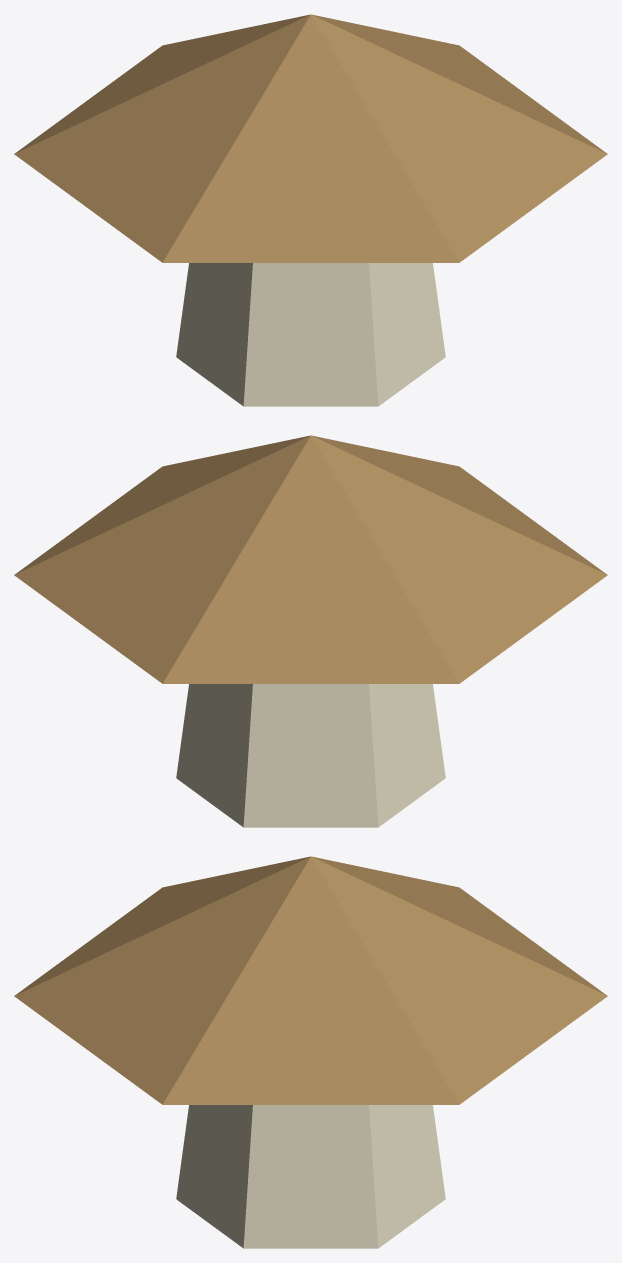
The model's file is Vegetation_New_Mushroom_Brown_02.FBX.
The picture shows the model from 3 angles, top to bottom: view 1: azimuth 30°, elevation 25°; view 2: azimuth 150°, elevation 25°; view 3: azimuth 270°, elevation 25°; orthographic projection.
Visible parts, largest first — view 1: Vegetation_New_Mushroom_Brown_02; view 2: Vegetation_New_Mushroom_Brown_02; view 3: Vegetation_New_Mushroom_Brown_02.
Part boxes in pixels (box(x1,y1,x2,y2)): Vegetation_New_Mushroom_Brown_02: box(14, 14, 607, 406); Vegetation_New_Mushroom_Brown_02: box(14, 435, 607, 827); Vegetation_New_Mushroom_Brown_02: box(14, 856, 607, 1248).
Size of the model in its own units: 402 by 295 by 464.
